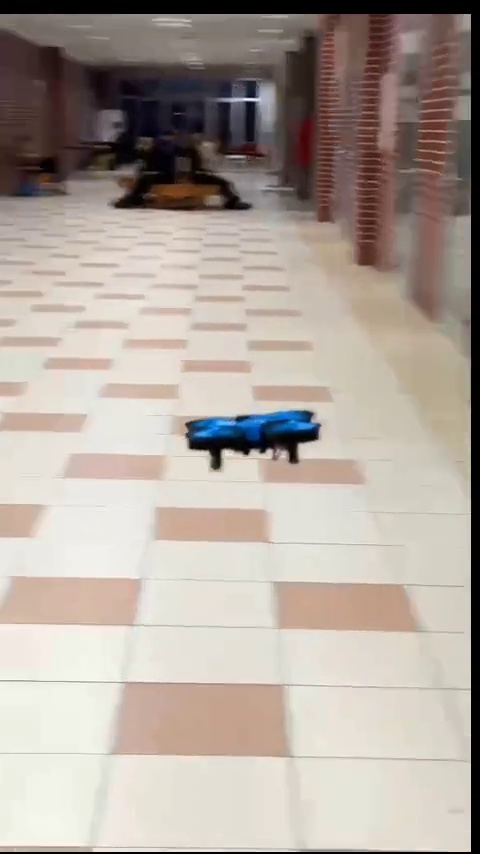drone: (186, 410, 323, 468)
